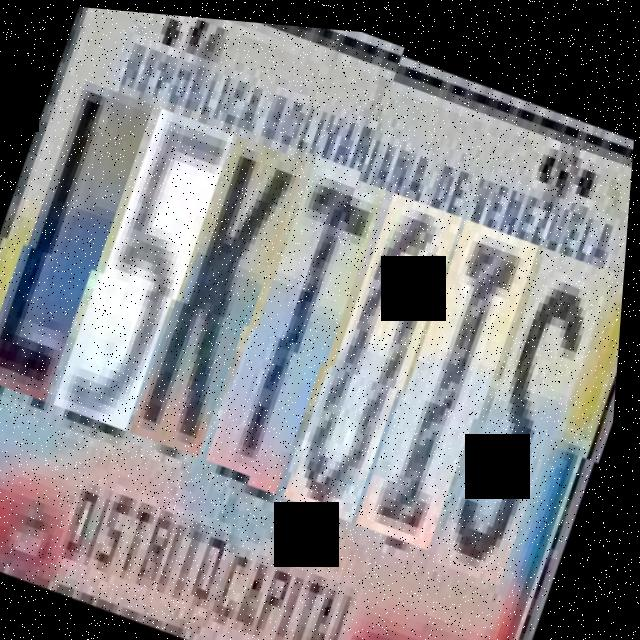0: (293, 179, 466, 523)
5: (59, 107, 234, 443)
I: (365, 204, 543, 549)
K: (136, 134, 306, 468)
L: (0, 81, 153, 416)
S: (444, 232, 619, 584)
T: (212, 151, 390, 496)
